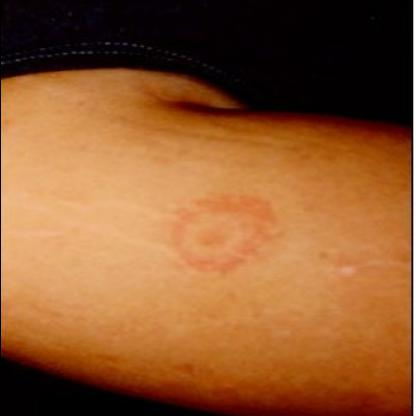Tick: (165, 193, 273, 276)
